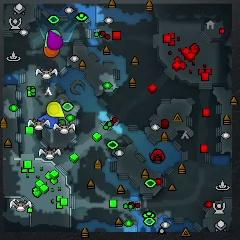p1: (38, 113, 59, 129)
p2: (45, 29, 62, 49)
p3: (47, 30, 63, 50)
p4: (47, 102, 65, 118)
p5: (43, 46, 60, 58)
